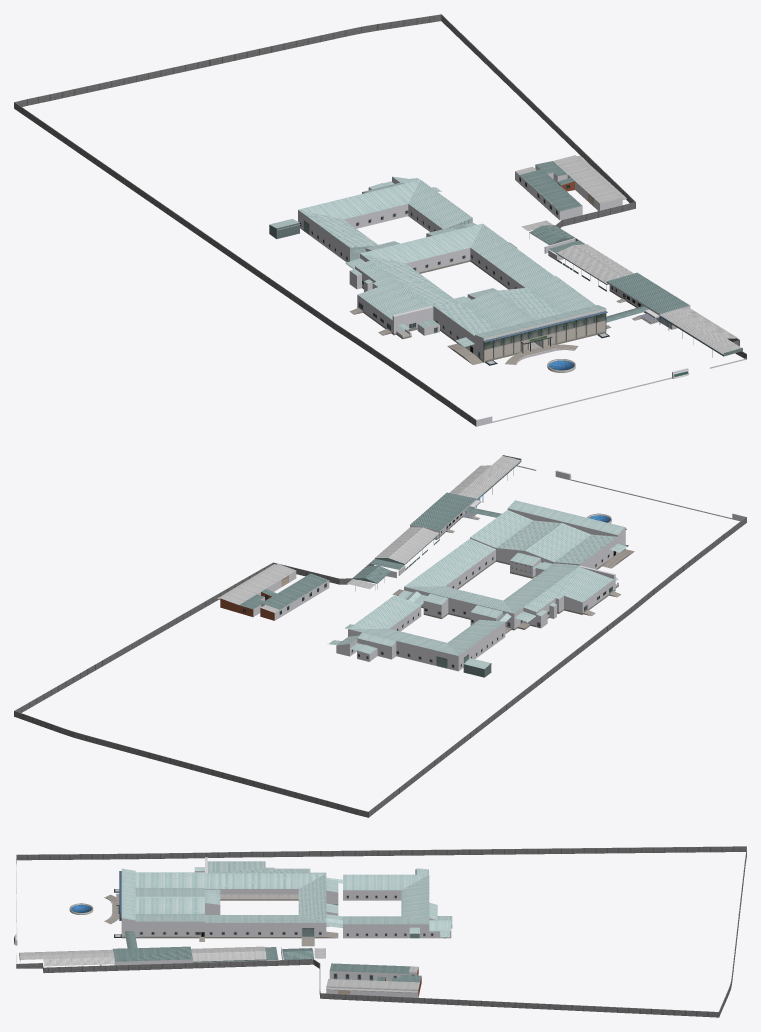
File: Benh vien Hoan My Binh Phuoc.glb
The picture shows the model from 3 angles, top to bottom: view 1: azimuth 30°, elevation 25°; view 2: azimuth 150°, elevation 25°; view 3: azimuth 270°, elevation 25°; orthographic projection. The views are drawn at different scales.
Parts seen in each view (by area): view 1: BPH004_BenhvienHoanMyBinhPhuoc_B_C, BPH004_BenhvienHoanMyBinhPhuoc_hangrao_cantin_nhaxe, BPH004_BenhvienHoanMyBinhPhuoc_A, BPH004_BenhvienHoanMyBinhPhuoc_nhanghi; view 2: BPH004_BenhvienHoanMyBinhPhuoc_B_C, BPH004_BenhvienHoanMyBinhPhuoc_hangrao_cantin_nhaxe, BPH004_BenhvienHoanMyBinhPhuoc_A, BPH004_BenhvienHoanMyBinhPhuoc_nhanghi; view 3: BPH004_BenhvienHoanMyBinhPhuoc_B_C, BPH004_BenhvienHoanMyBinhPhuoc_hangrao_cantin_nhaxe, BPH004_BenhvienHoanMyBinhPhuoc_A, BPH004_BenhvienHoanMyBinhPhuoc_nhanghi.
Boxes of the visible parts, box(x1,y1,x2,y2) form: BPH004_BenhvienHoanMyBinhPhuoc_B_C: box(269, 176, 554, 339); BPH004_BenhvienHoanMyBinhPhuoc_hangrao_cantin_nhaxe: box(14, 14, 746, 426); BPH004_BenhvienHoanMyBinhPhuoc_A: box(417, 276, 610, 365); BPH004_BenhvienHoanMyBinhPhuoc_nhanghi: box(515, 155, 626, 220); BPH004_BenhvienHoanMyBinhPhuoc_B_C: box(328, 538, 621, 677); BPH004_BenhvienHoanMyBinhPhuoc_hangrao_cantin_nhaxe: box(14, 455, 746, 817); BPH004_BenhvienHoanMyBinhPhuoc_A: box(470, 500, 634, 578); BPH004_BenhvienHoanMyBinhPhuoc_nhanghi: box(217, 564, 329, 620); BPH004_BenhvienHoanMyBinhPhuoc_B_C: box(194, 857, 452, 946); BPH004_BenhvienHoanMyBinhPhuoc_hangrao_cantin_nhaxe: box(14, 846, 746, 1017); BPH004_BenhvienHoanMyBinhPhuoc_A: box(104, 868, 220, 941); BPH004_BenhvienHoanMyBinhPhuoc_nhanghi: box(326, 963, 421, 997).
Bounding box in the file's own units: 200 × 11.4 × 373.
Materials: 4 (4 with a texture image).
